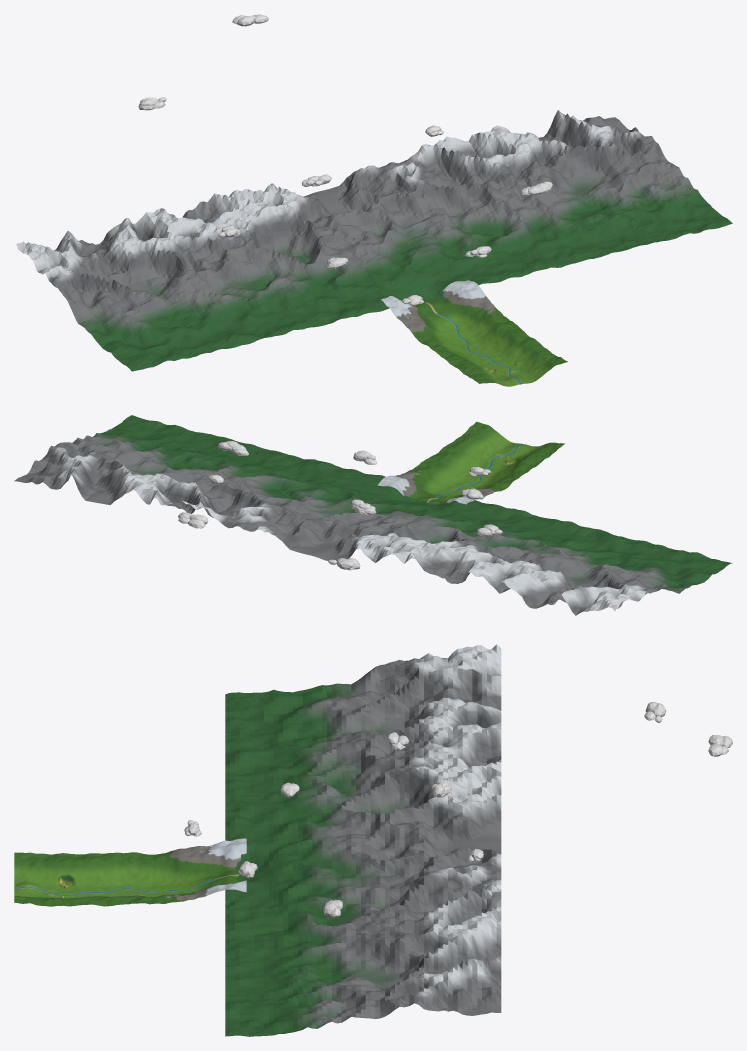
File: valley_m0.glb
The picture shows the model from 3 angles, top to bottom: view 1: azimuth 30°, elevation 25°; view 2: azimuth 150°, elevation 25°; view 3: azimuth 270°, elevation 25°; orthographic projection. The views are drawn at different scales.
Parts seen in each view (by area): view 1: Ridges, Terrain, Clouds; view 2: Ridges, Terrain, Clouds; view 3: Ridges, Terrain, Clouds.
Boxes of the visible parts, <box> form: Ridges: <box>16,110,732,371</box>; Terrain: <box>380,280,567,386</box>; Clouds: <box>138,14,552,305</box>; Ridges: <box>14,415,732,615</box>; Terrain: <box>377,421,564,504</box>; Clouds: <box>178,441,502,570</box>; Ridges: <box>225,644,501,1036</box>; Terrain: <box>14,838,246,906</box>; Clouds: <box>184,702,732,917</box>.
Bounding box in the file's own units: 7560 × 1726 × 6679.
